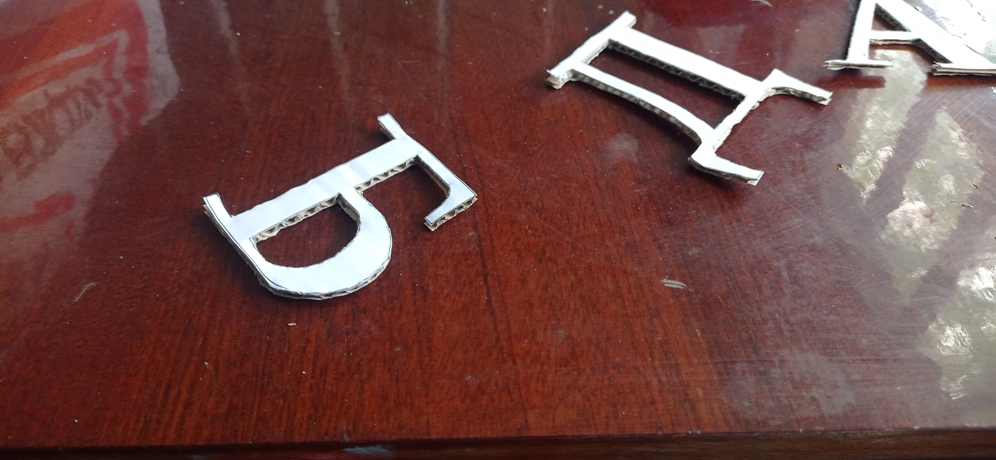a: (828, 0, 994, 77)
b: (199, 113, 478, 304)
d: (543, 9, 832, 185)
